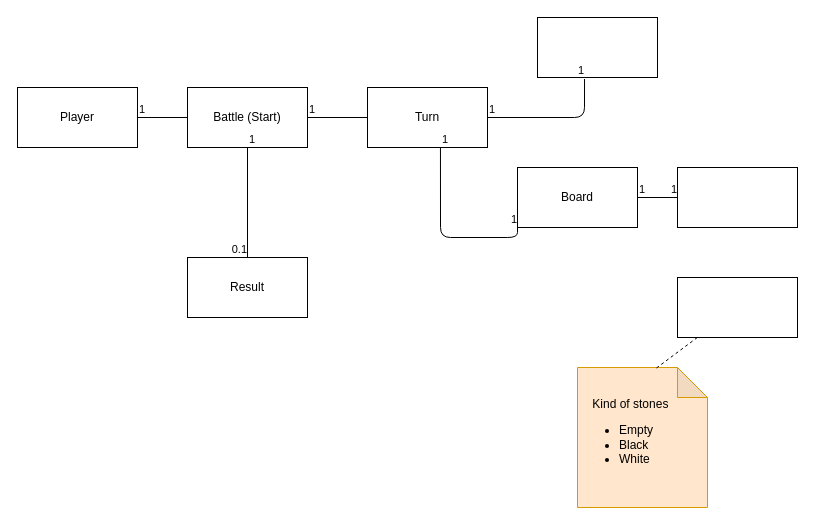
The diagram is 815 pixels wide and 525 high, and some of its shapes have lost their labels. The shapes that lost their labels are listed below. From the top down, each one's centre as x and y in pixels, then its label:
At [597,47]: "Hands".
At [737,197]: "Grid (Square)".
At [737,307]: "Stone".
